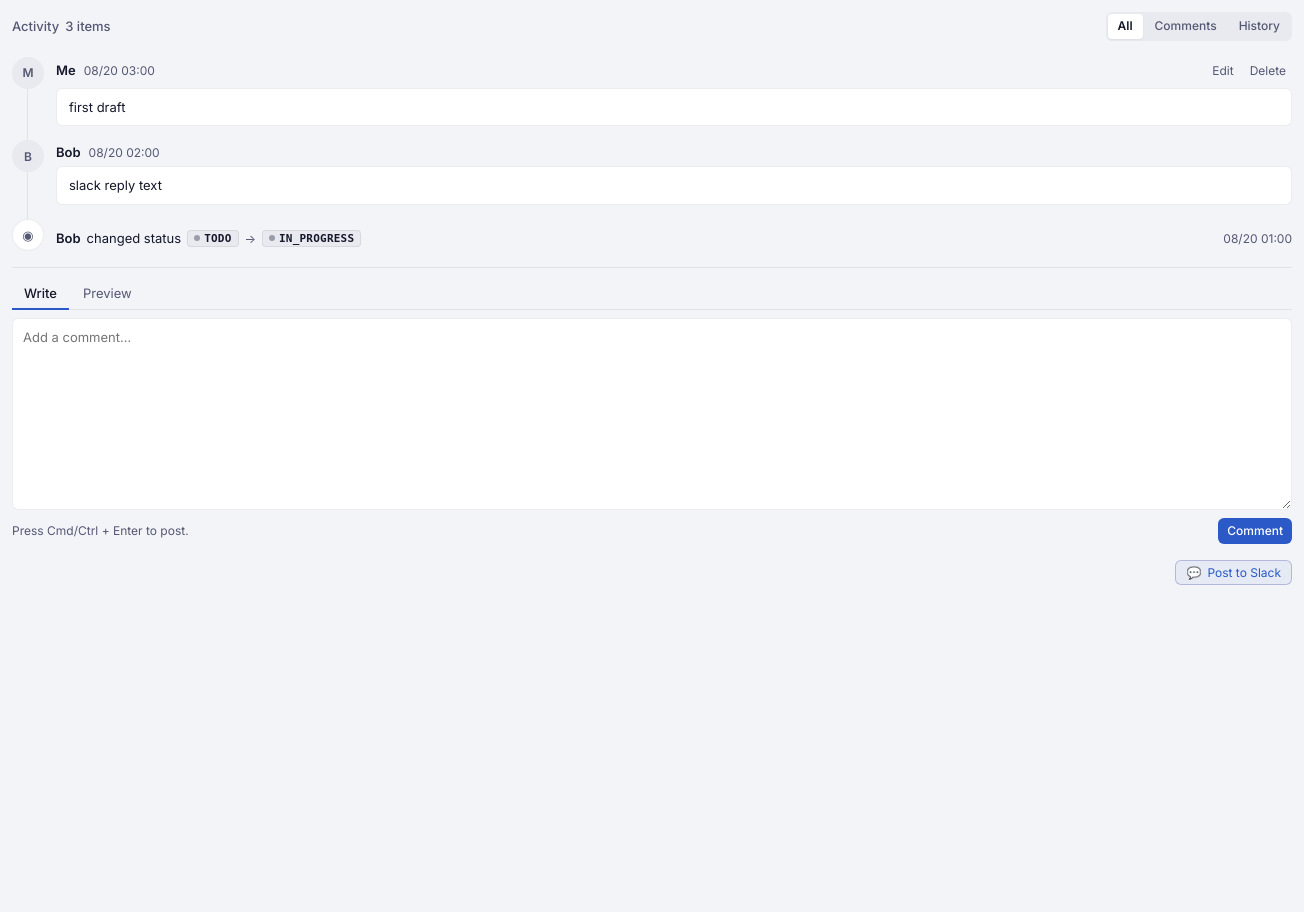
ActionActivity comments › sends the edited body and closes the editor on success
Expected: the element with test id "activity-comment-c-mine" is shown, [12,53,1292,130]
Click the button with test id "action-comment-edit-c-mine". click: x=1223, y=71
box: [1206,61,1240,82]
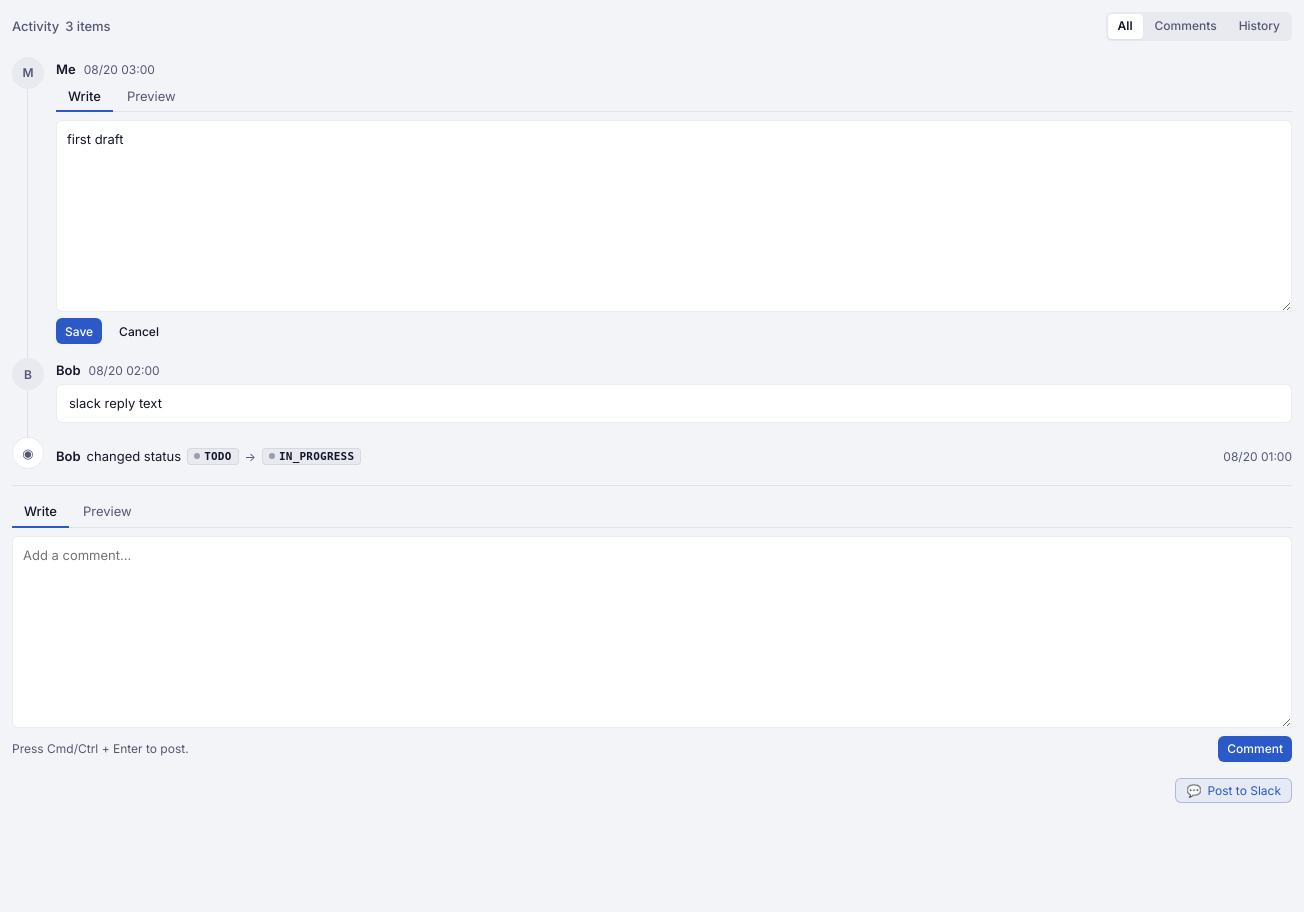
Replace the text in the text box with test id "action-comment-editor-c-mine-textarea" with "second draft". click: x=674, y=216
box: [56,120,1292,312]
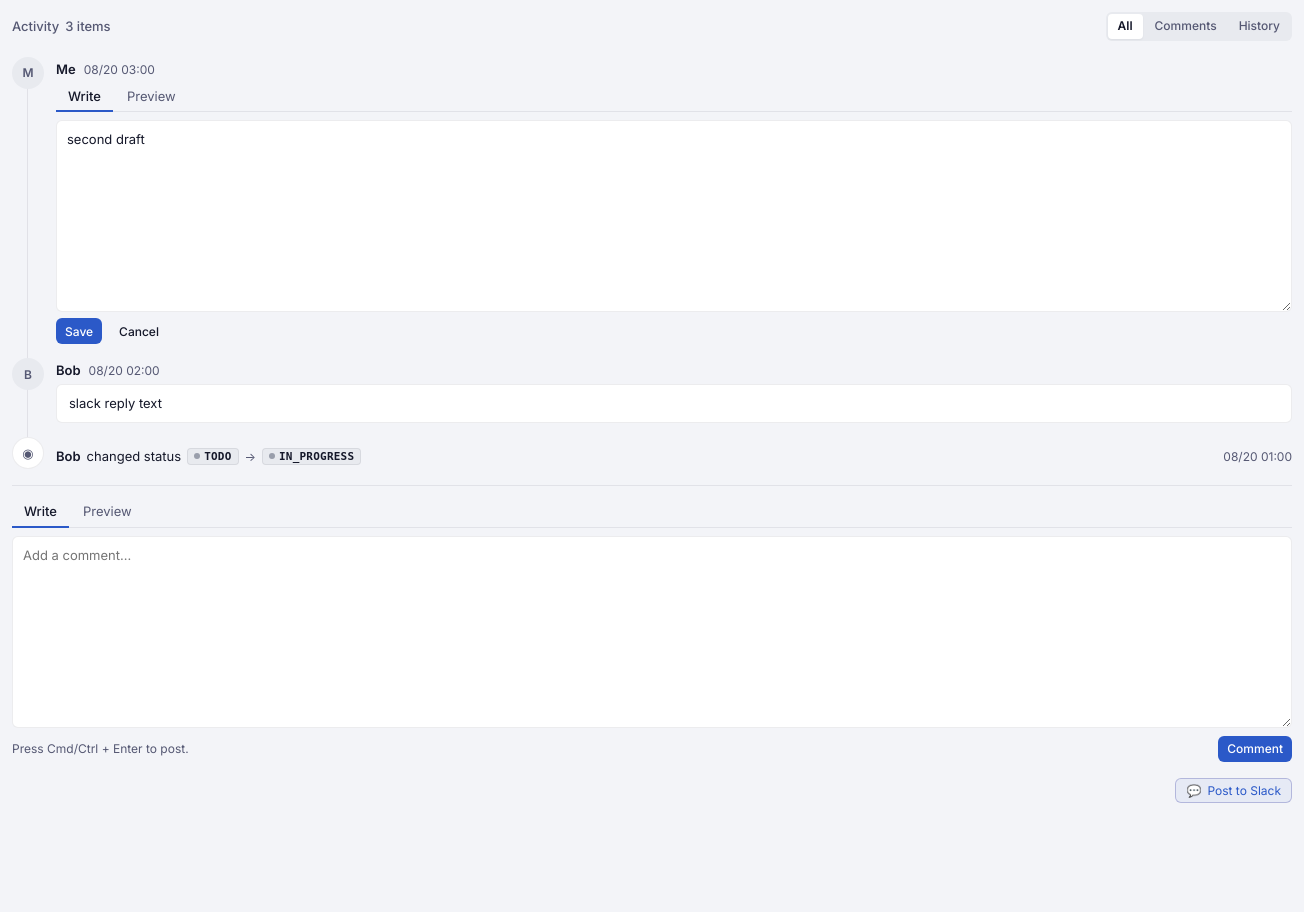
Click the button with test id "action-comment-save-c-mine". click: x=79, y=331
box: [56,318,102,344]
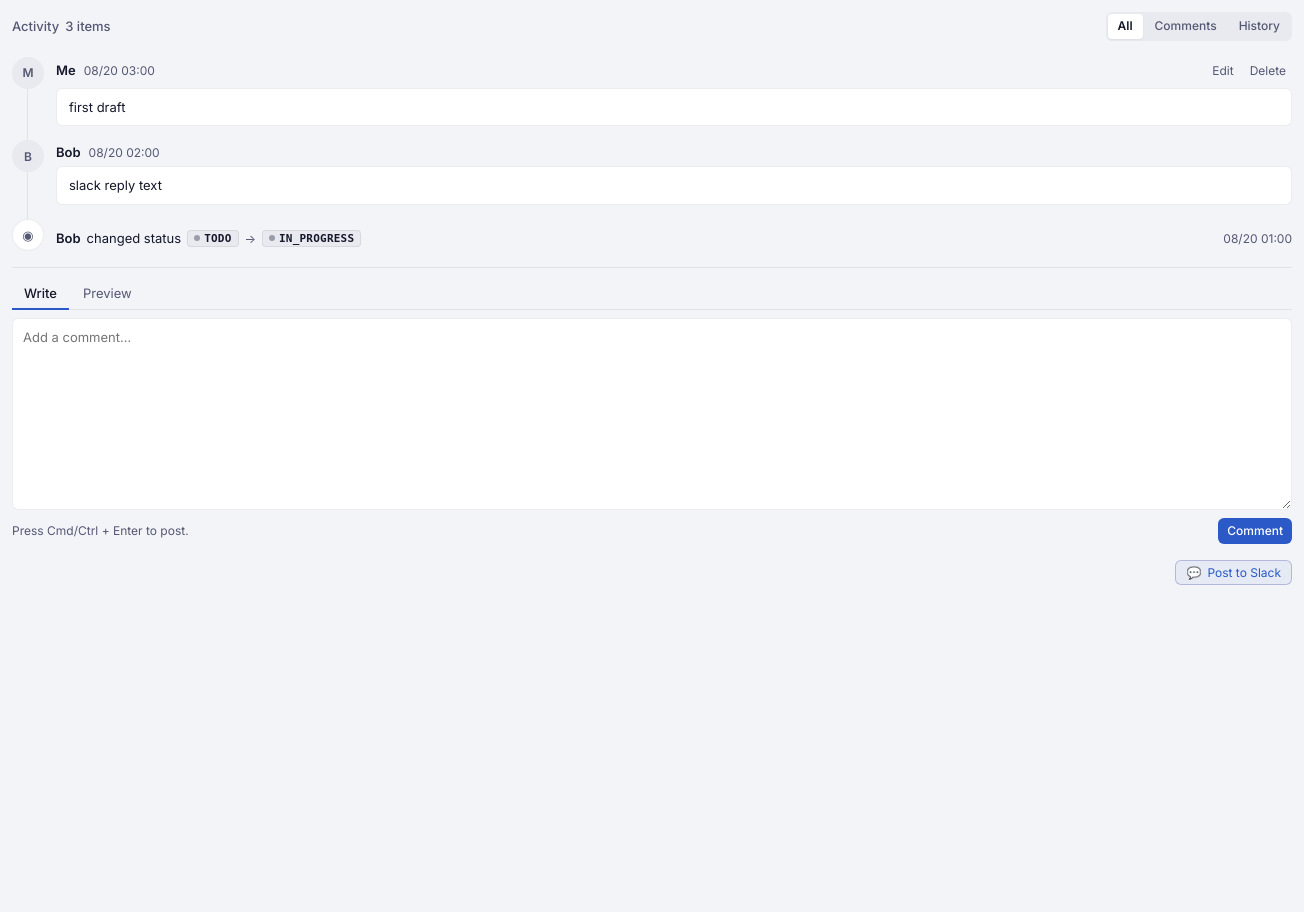
Now the text box with test id "action-comment-editor-c-mine-textarea" is gone
